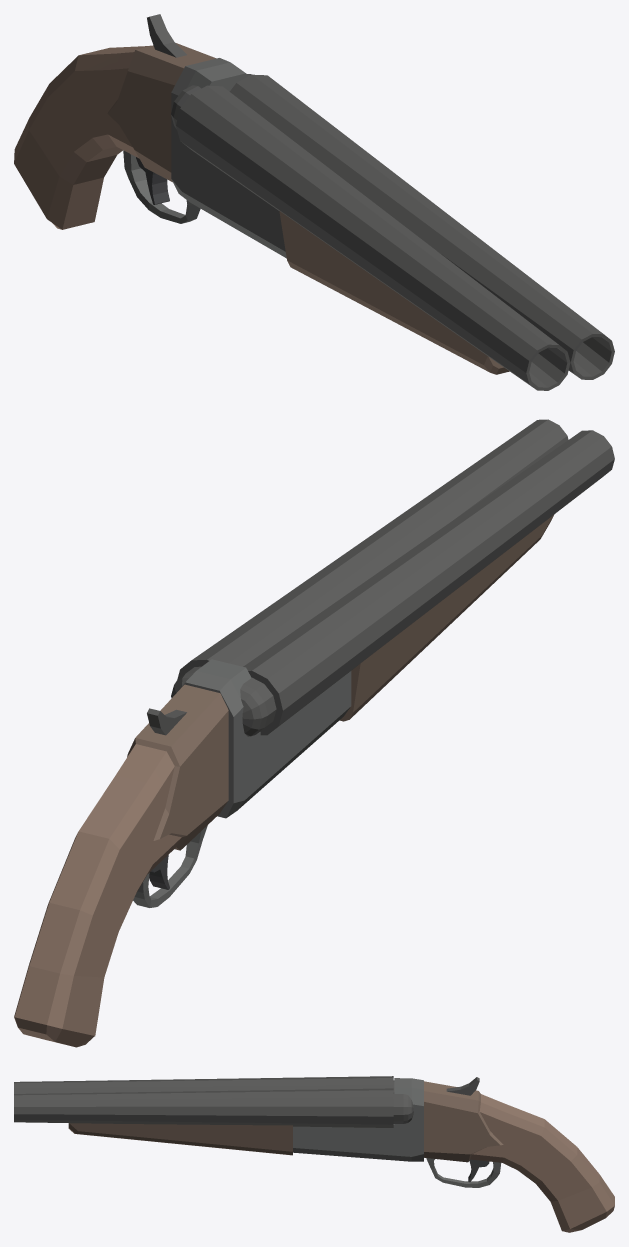
The model's file is shotgun_sawedoff.glb.
3 renders of one model, top to bottom at view 1: azimuth 30°, elevation 25°; view 2: azimuth 150°, elevation 25°; view 3: azimuth 270°, elevation 25°, orthographic. The views are drawn at different scales.
Parts seen in each view (by area): view 1: shotgun_sawedoff; view 2: shotgun_sawedoff; view 3: shotgun_sawedoff.
Part boxes in pixels (x1,y1,x2,y2): shotgun_sawedoff: [14, 14, 614, 390]; shotgun_sawedoff: [14, 419, 614, 1047]; shotgun_sawedoff: [14, 1076, 614, 1232].
Bounding box in the file's own units: 0.0767 × 0.1852 × 0.6694.
